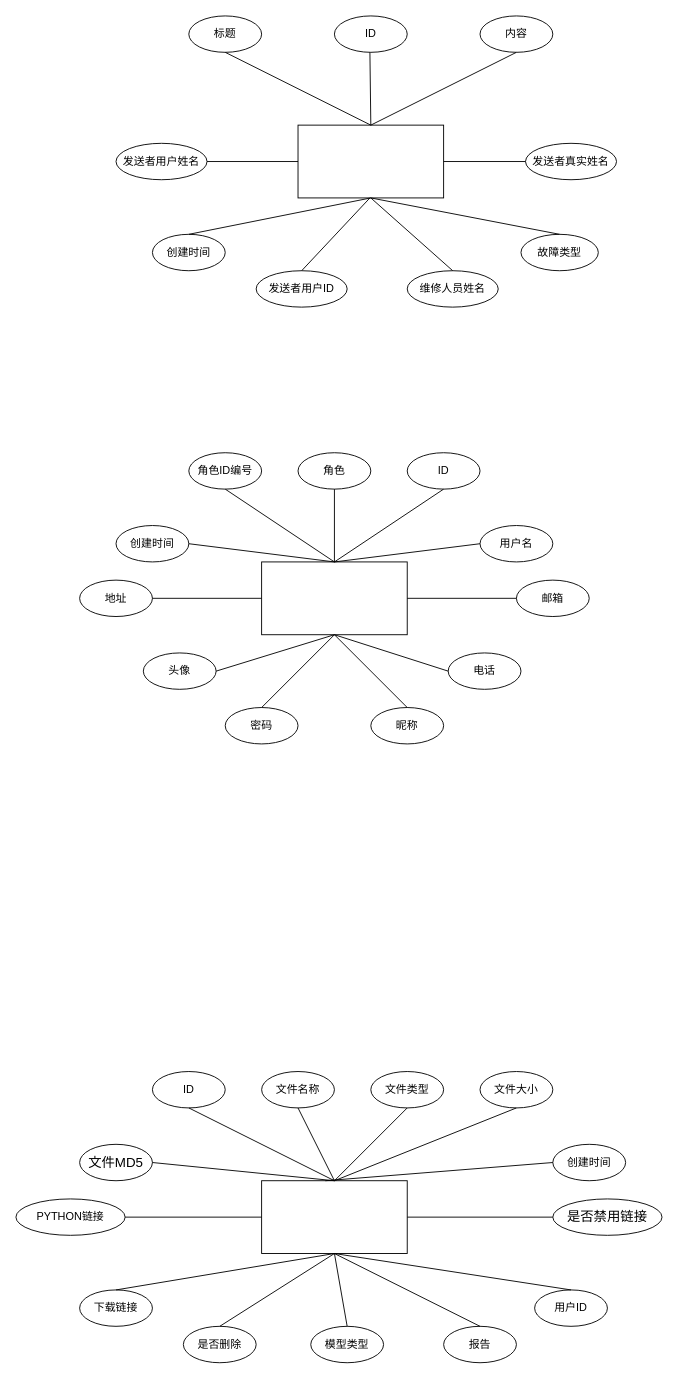
This 678x1379 diagram has some shape labels left out. The centre of each missing label's shape, as x and y in pixels:
"文件" goes at point (334, 1217).
"消息" goes at point (370, 161).
"用户" goes at point (334, 598).
